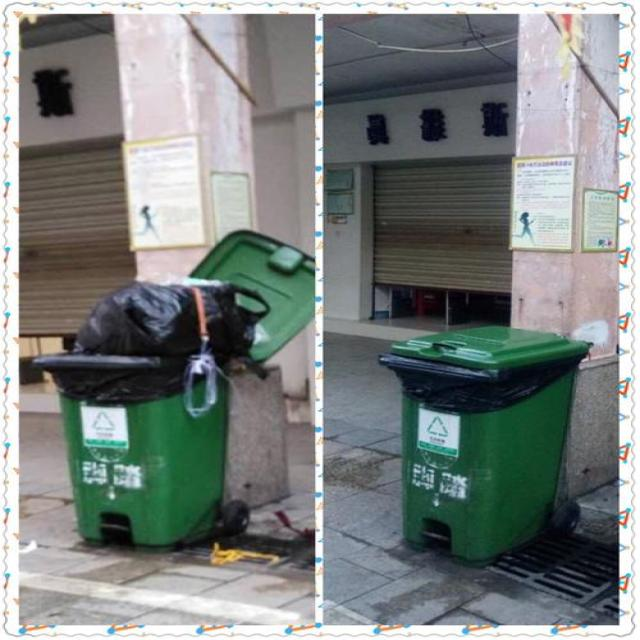garbage_bin: (374, 325, 589, 564)
overflow: (36, 278, 270, 553)
